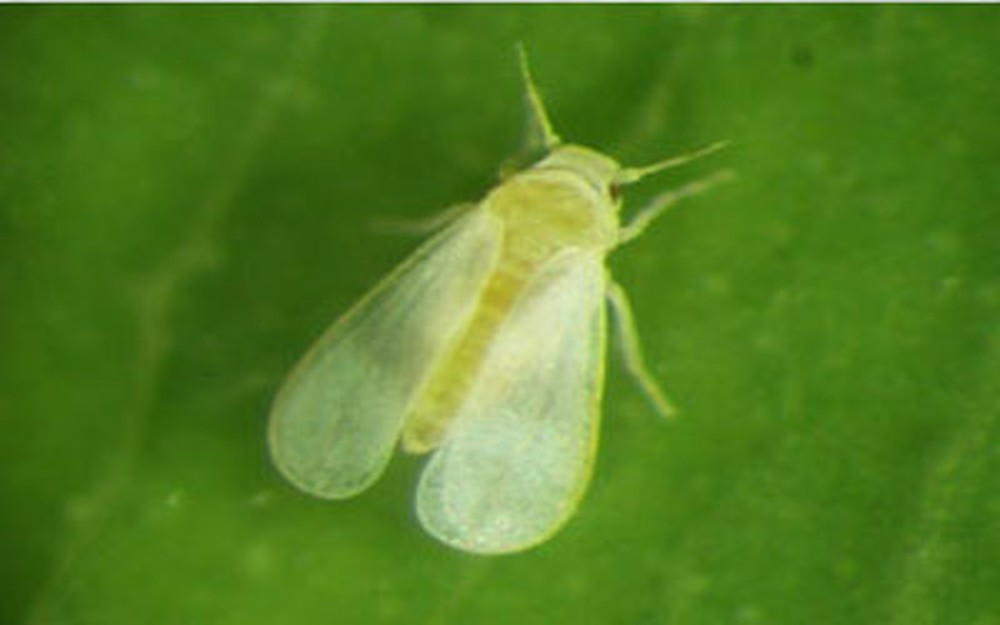Mosca Blanca: (250, 43, 748, 565)
